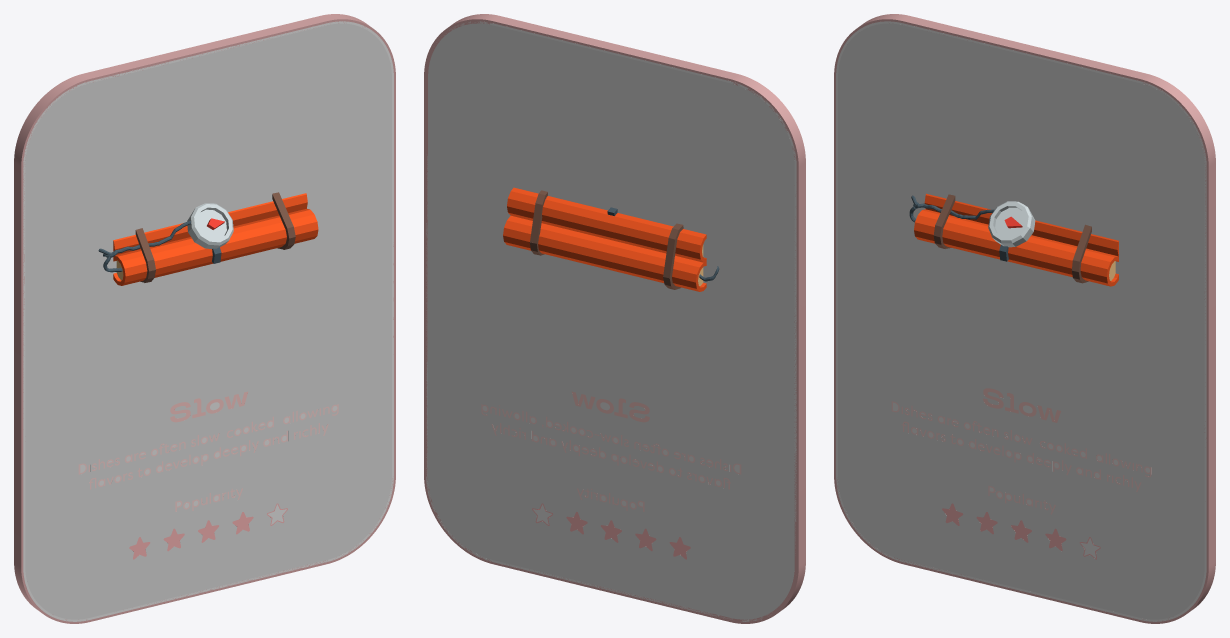
File: slow.gltf
3 views of the same model, side by side, from view 1: azimuth 30°, elevation 25°; view 2: azimuth 150°, elevation 25°; view 3: azimuth 330°, elevation 25° (orthographic).
Parts seen in each view (by area): view 1: Asset 62new_cards.735, group329809162, Asset 62new_cards.721, Asset 62new_cards.719; view 2: Asset 62new_cards.735, group329809162, Asset 62new_cards.721, Asset 62new_cards.719, Asset 62new_cards.720; view 3: Asset 62new_cards.735, group329809162, Asset 62new_cards.721, Asset 62new_cards.719.
Boxes of the visible parts, x1,y1,x2,y2 form: Asset 62new_cards.735: (25,23,391,619); group329809162: (98,192,318,285); Asset 62new_cards.721: (14,14,395,623); Asset 62new_cards.719: (23,21,393,621); Asset 62new_cards.735: (428,23,794,619); group329809162: (503,187,719,291); Asset 62new_cards.721: (424,14,805,623); Asset 62new_cards.719: (426,21,796,621); Asset 62new_cards.720: (426,21,796,621); Asset 62new_cards.735: (838,23,1204,619); group329809162: (909,193,1118,286); Asset 62new_cards.721: (834,14,1215,623); Asset 62new_cards.719: (836,21,1206,621).
Bounding box in the file's own units: 15.99 × 22.15 × 2.67.
